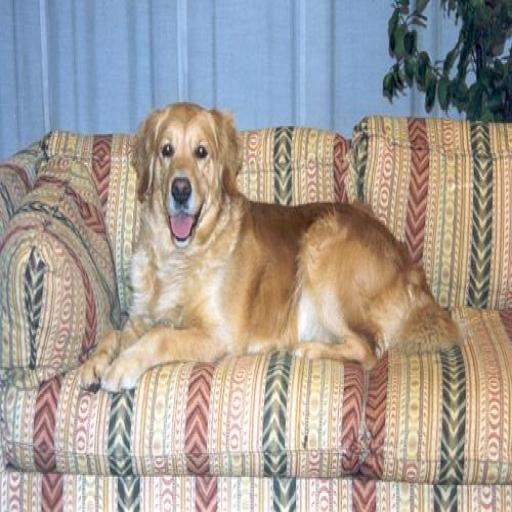dog_face: (135, 102, 235, 239)
